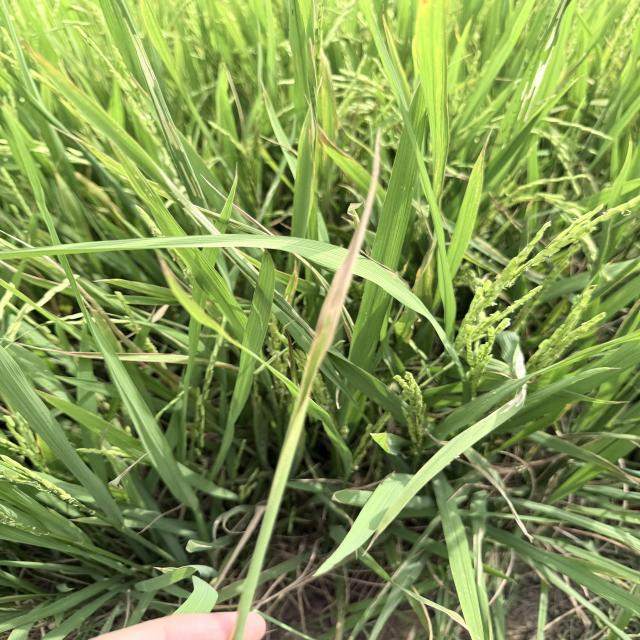Chay bia la: (298, 126, 382, 418)
